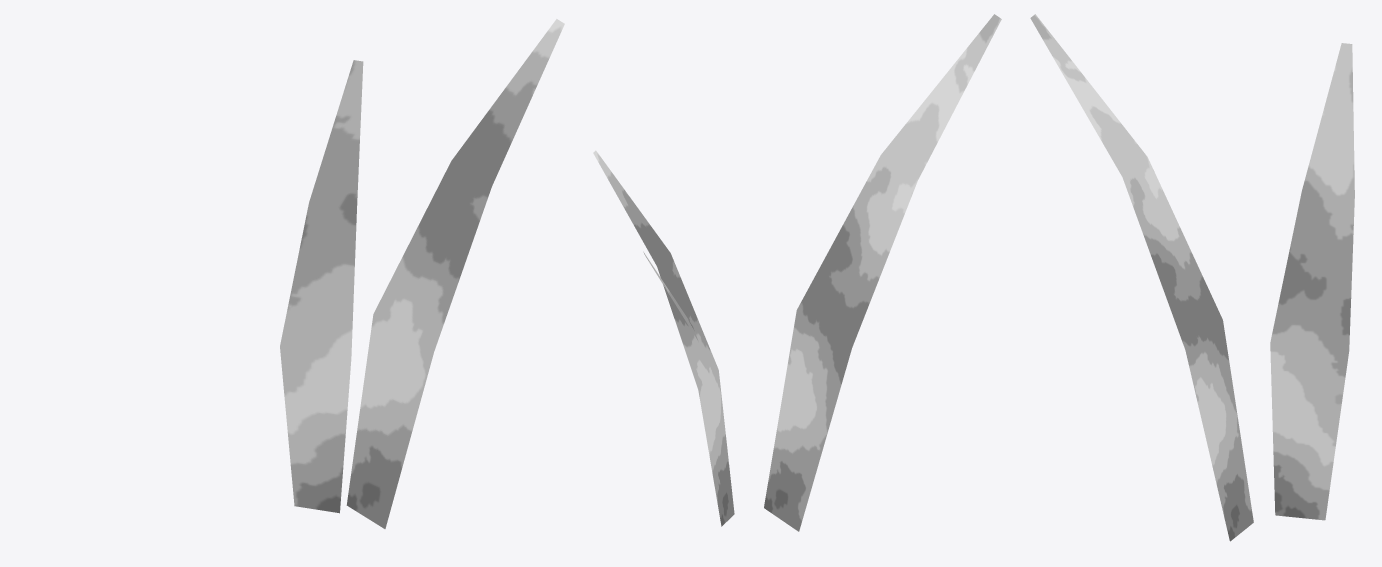
File: anime-grass.glb
3 renders of one model, left to right at view 1: azimuth 30°, elevation 25°; view 2: azimuth 150°, elevation 25°; view 3: azimuth 270°, elevation 25°, orthographic. The views are drawn at different scales.
Parts seen in each view (by area): view 1: GrassBlade; view 2: GrassBlade; view 3: GrassBlade.
Part boxes in pixels (<box>): GrassBlade: <box>280,19,564,528</box>; GrassBlade: <box>593,14,1001,531</box>; GrassBlade: <box>1030,14,1354,541</box>.
Bounding box in the file's own units: 0.4978 × 0.6075 × 0.4015.
1 material, 1 textured.
